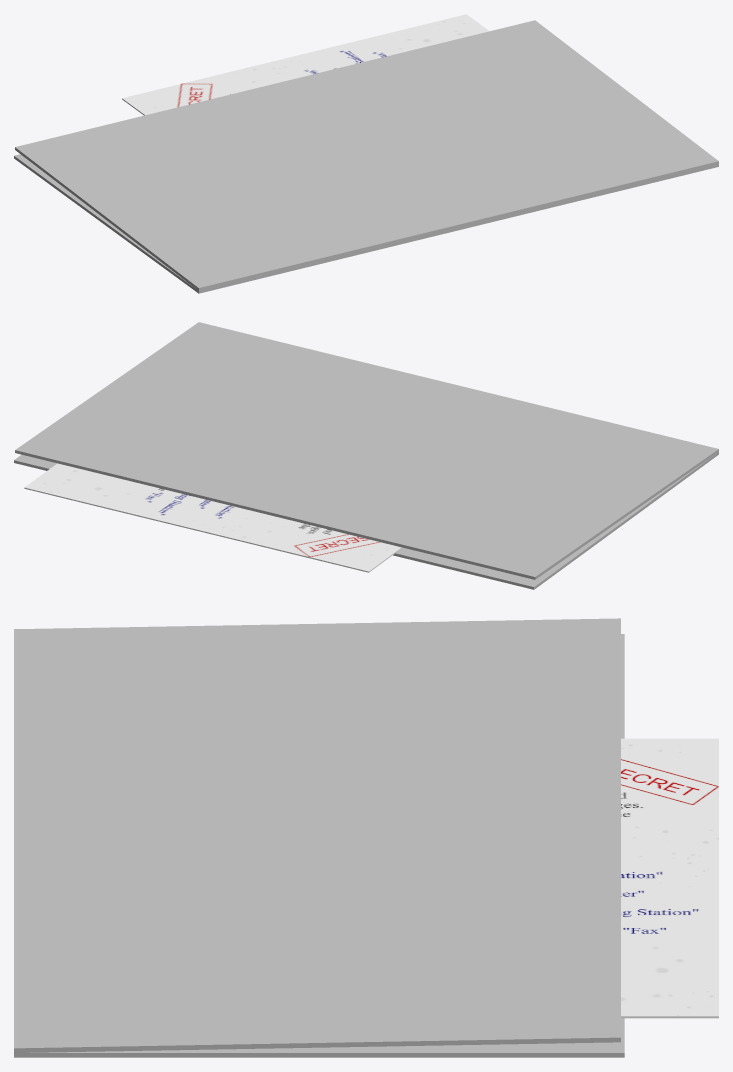
Rendered from NewsAndTask.fbx.
3 views of the same model, one above another, from view 1: azimuth 30°, elevation 25°; view 2: azimuth 150°, elevation 25°; view 3: azimuth 270°, elevation 25° (orthographic). The views are drawn at different scales.
Parts seen in each view (by area): view 1: Plane.007, Plane.009; view 2: Plane.007, Plane.009; view 3: Plane.007, Plane.009.
Part boxes in pixels (<box>): Plane.007: <box>14,20,718,293</box>; Plane.009: <box>122,14,489,115</box>; Plane.007: <box>14,322,718,589</box>; Plane.009: <box>24,463,402,572</box>; Plane.007: <box>14,618,624,1057</box>; Plane.009: <box>621,738,718,1018</box>.
Size of the model in its own units: 62.01 by 1.38 by 44.07.
